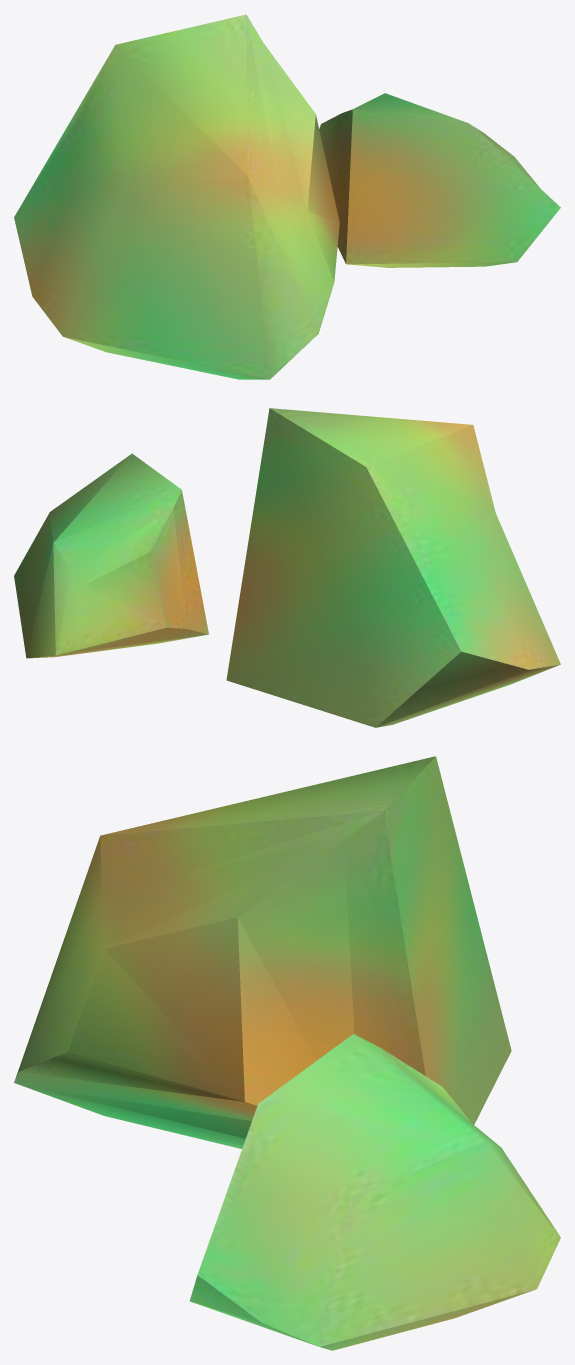
Rendered from r32_erzpack_object_5.glb.
The picture shows the model from 3 angles, top to bottom: view 1: azimuth 30°, elevation 25°; view 2: azimuth 150°, elevation 25°; view 3: azimuth 270°, elevation 25°; orthographic projection. The views are drawn at different scales.
Parts seen in each view (by area): view 1: erz_5; view 2: erz_5; view 3: erz_5.
Part boxes in pixels (bbox=[...]): erz_5: bbox=[14, 14, 560, 379]; erz_5: bbox=[14, 408, 560, 727]; erz_5: bbox=[14, 756, 560, 1350].
Size of the model in its own units: 1 by 0.5188 by 0.662.
Materials: 1 (1 with a texture image).
